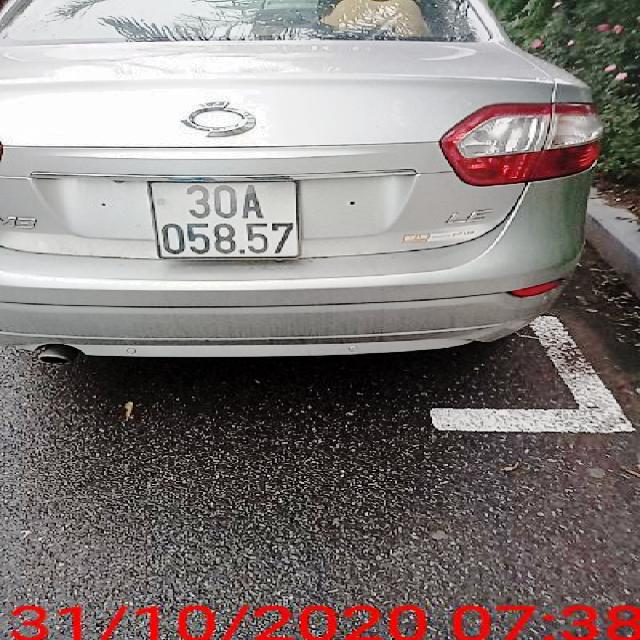license_plate: (155, 182, 298, 257)
